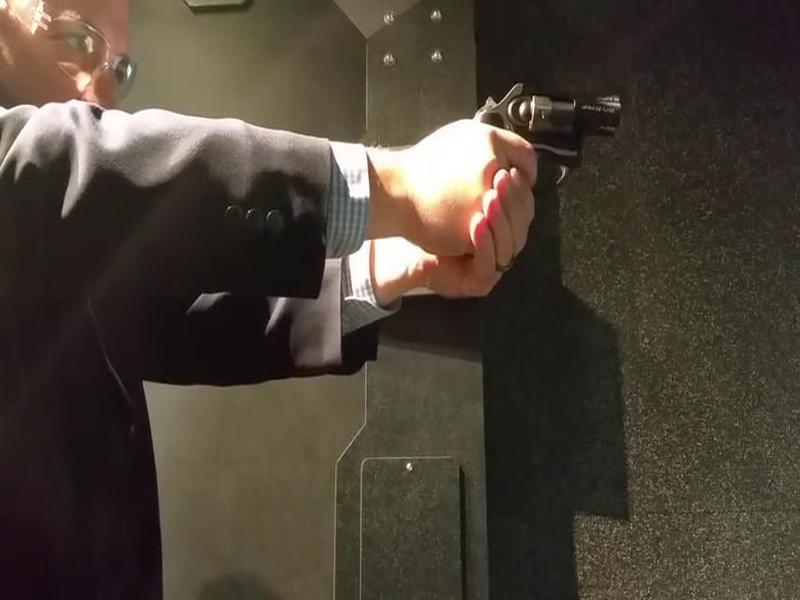Revolver: (465, 69, 646, 192)
